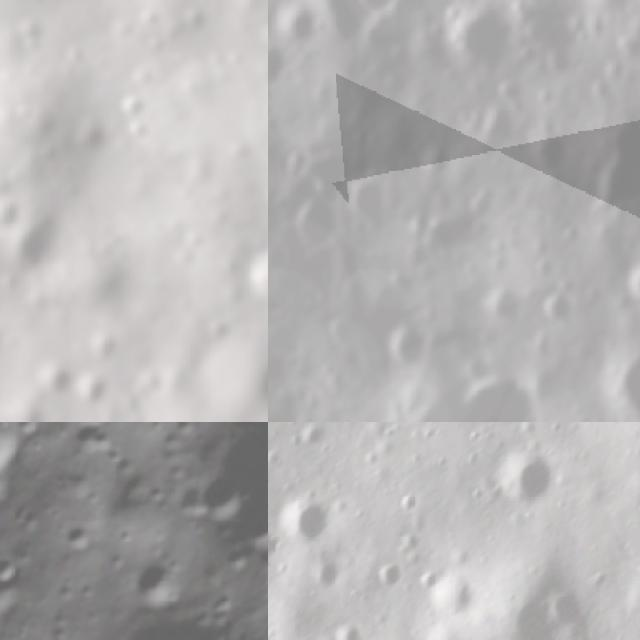crater: (371, 352, 553, 422), (440, 0, 520, 82), (217, 422, 268, 534), (205, 338, 268, 421), (120, 544, 194, 613), (214, 481, 268, 567), (188, 462, 251, 526), (492, 453, 556, 515), (0, 216, 62, 279), (287, 189, 341, 257), (100, 609, 216, 640), (274, 497, 334, 556), (0, 422, 44, 489), (66, 422, 124, 468), (50, 510, 100, 559), (418, 571, 469, 619), (381, 315, 429, 363), (609, 350, 640, 422), (70, 371, 121, 414), (274, 1, 328, 41), (349, 179, 389, 230), (0, 443, 23, 529), (241, 251, 268, 312), (543, 593, 582, 634), (52, 422, 129, 442), (478, 283, 518, 321), (40, 362, 74, 406), (531, 289, 573, 323), (116, 86, 152, 124), (369, 563, 402, 604), (0, 544, 28, 592), (308, 558, 349, 590), (20, 623, 96, 640), (87, 331, 120, 370), (0, 196, 26, 238), (268, 37, 286, 91), (622, 259, 640, 310), (14, 397, 46, 422), (351, 0, 403, 15), (336, 620, 368, 640)
